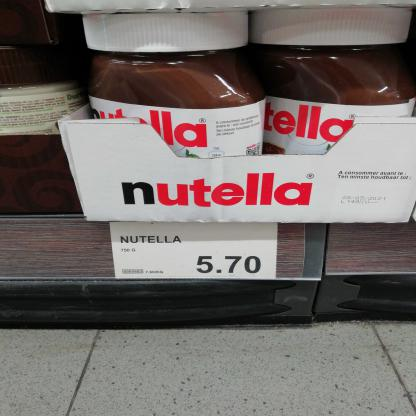prtg: (111, 223, 278, 280)
